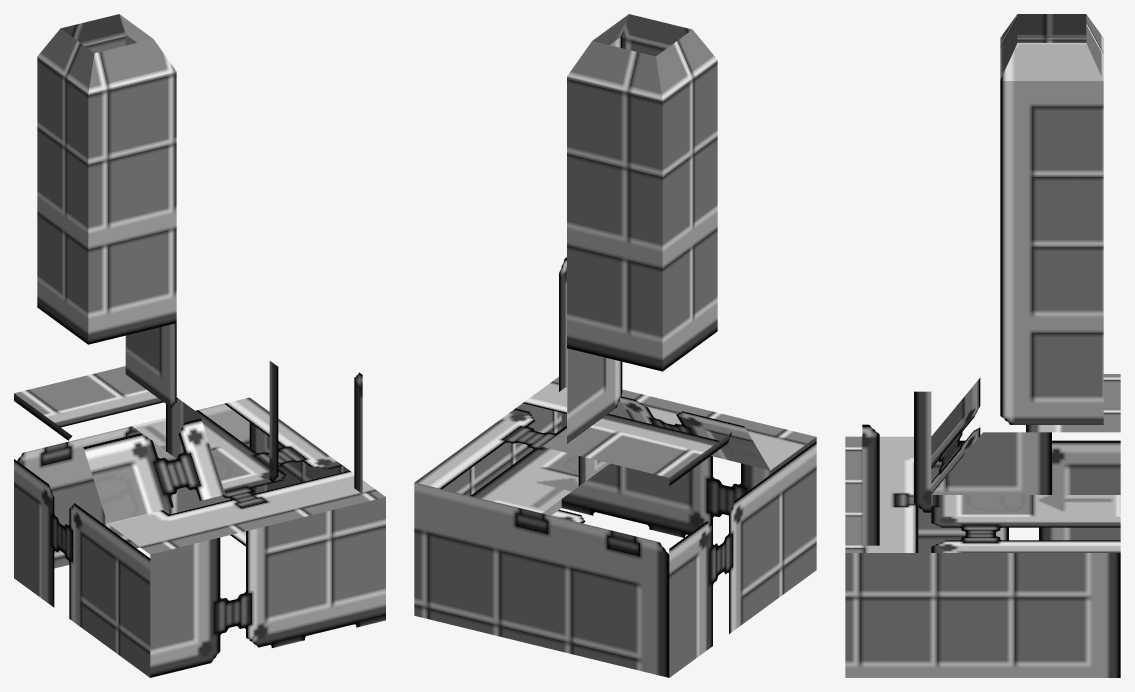
File: biomass_factory.obj
The picture shows the model from 3 angles, left to right: view 1: azimuth 30°, elevation 25°; view 2: azimuth 150°, elevation 25°; view 3: azimuth 270°, elevation 25°; orthographic projection. The views are drawn at different scales.
Parts seen in each view (by area): view 1: main, shaft, chimney; view 2: main, shaft, chimney; view 3: main, shaft, chimney.
Part boxes in pixels (<box>): main: <box>14,366,385,677</box>; shaft: <box>37,14,176,407</box>; chimney: <box>269,361,362,493</box>; main: <box>414,377,816,677</box>; shaft: <box>567,14,717,443</box>; chimney: <box>559,257,566,391</box>; main: <box>845,374,1120,677</box>; shaft: <box>1000,14,1103,424</box>; chimney: <box>862,391,931,545</box>.
Bounding box in the file's own units: 1 × 2.25 × 1.
